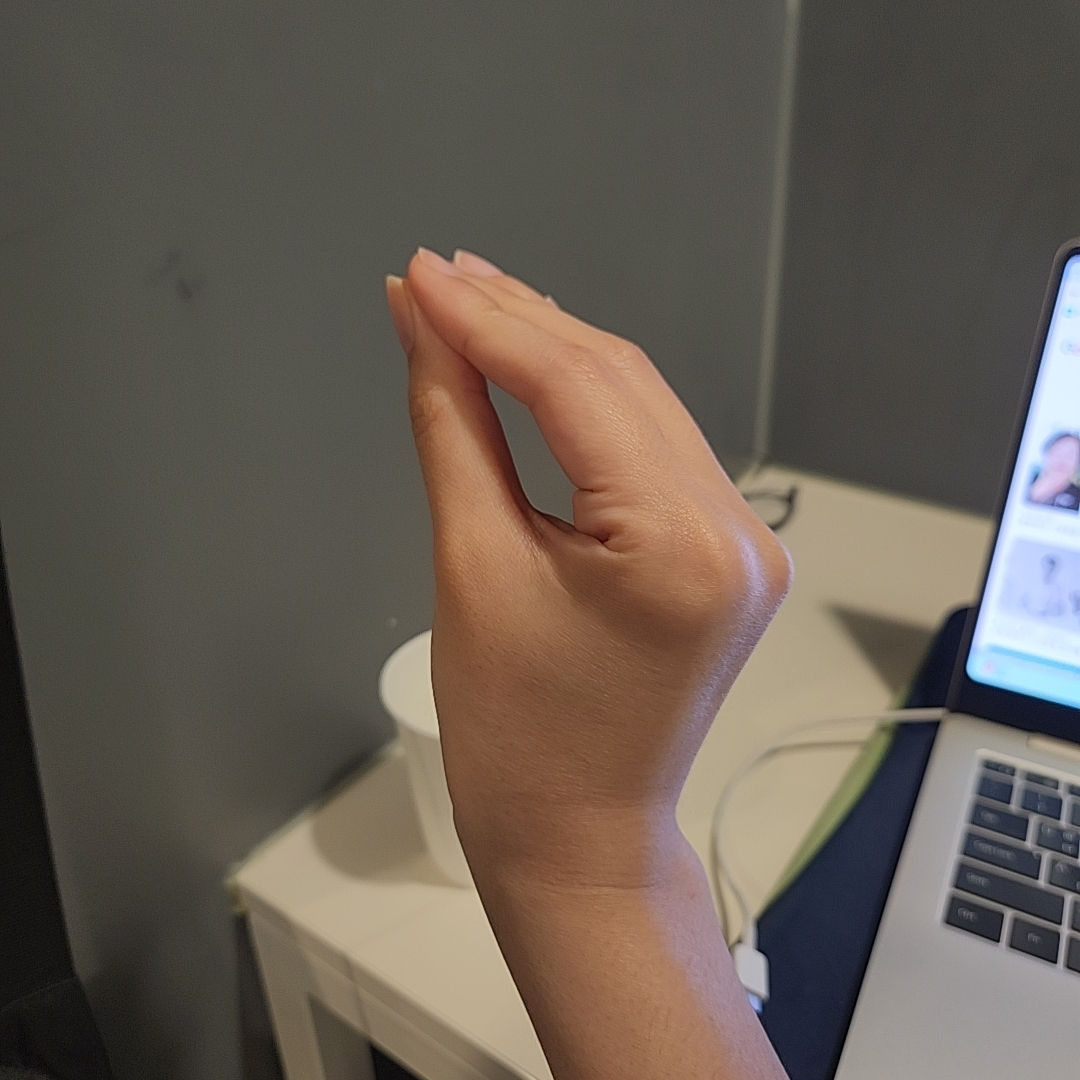happy: (388, 243, 793, 839)
